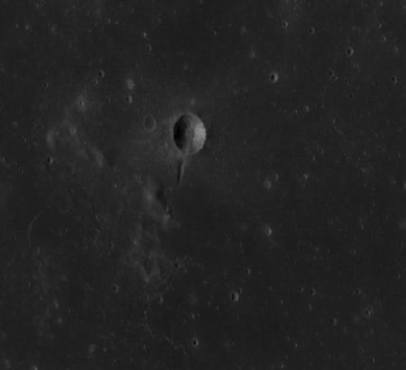crater: (159, 96, 235, 177), (252, 55, 297, 109)
